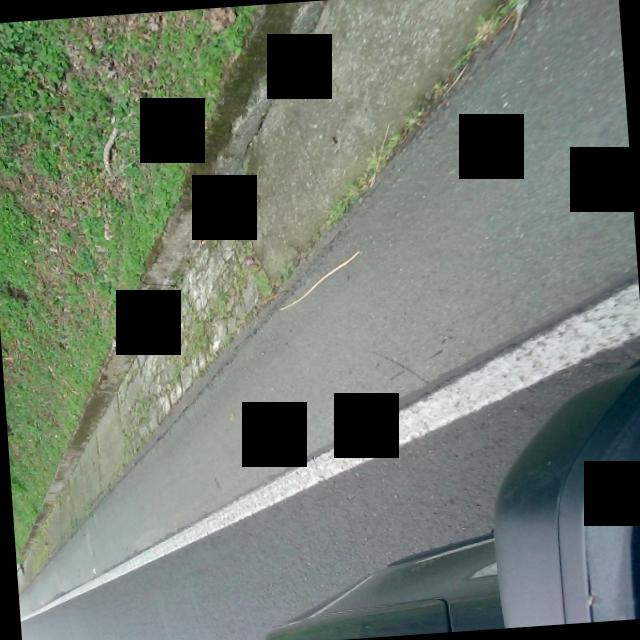DITCH: (0, 0, 640, 618), (10, 0, 640, 611), (68, 0, 640, 640)
